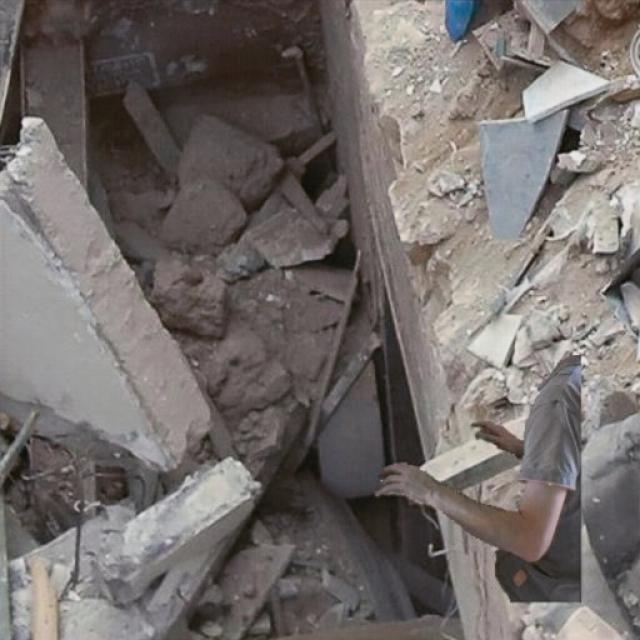Person in Rubble: (375, 354, 580, 602)
